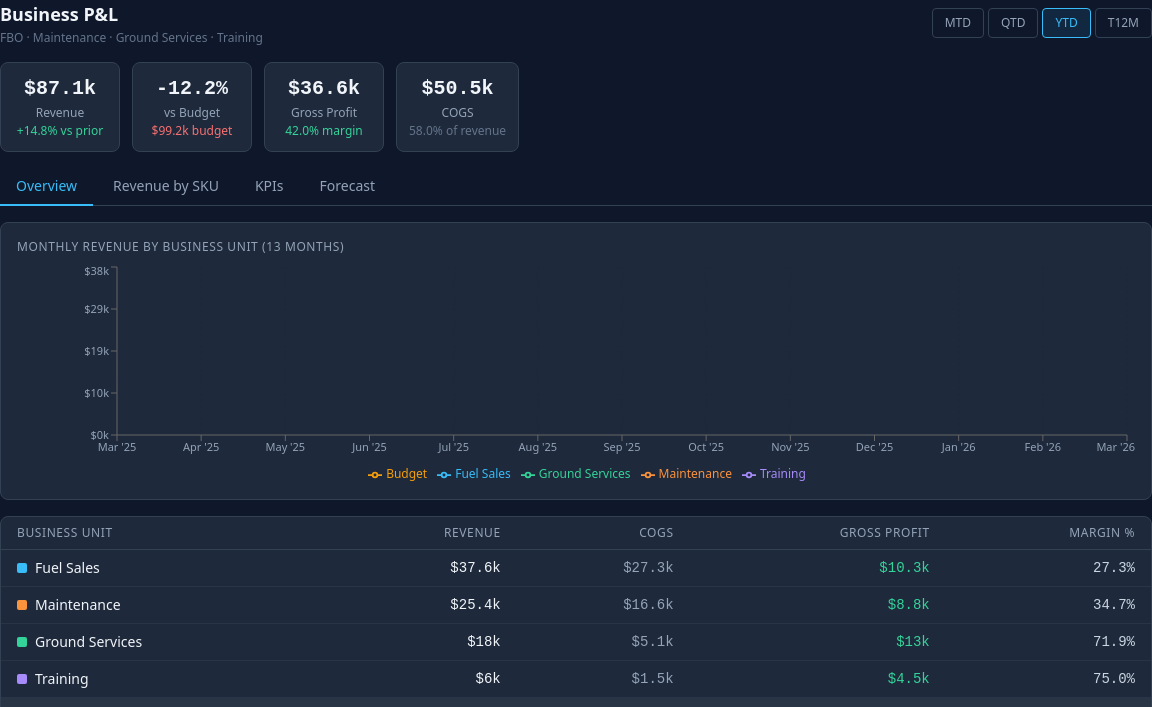
BusinessPnL page › switches to KPIs tab
Click the button "KPIs": (269, 187) [239,168,300,206]
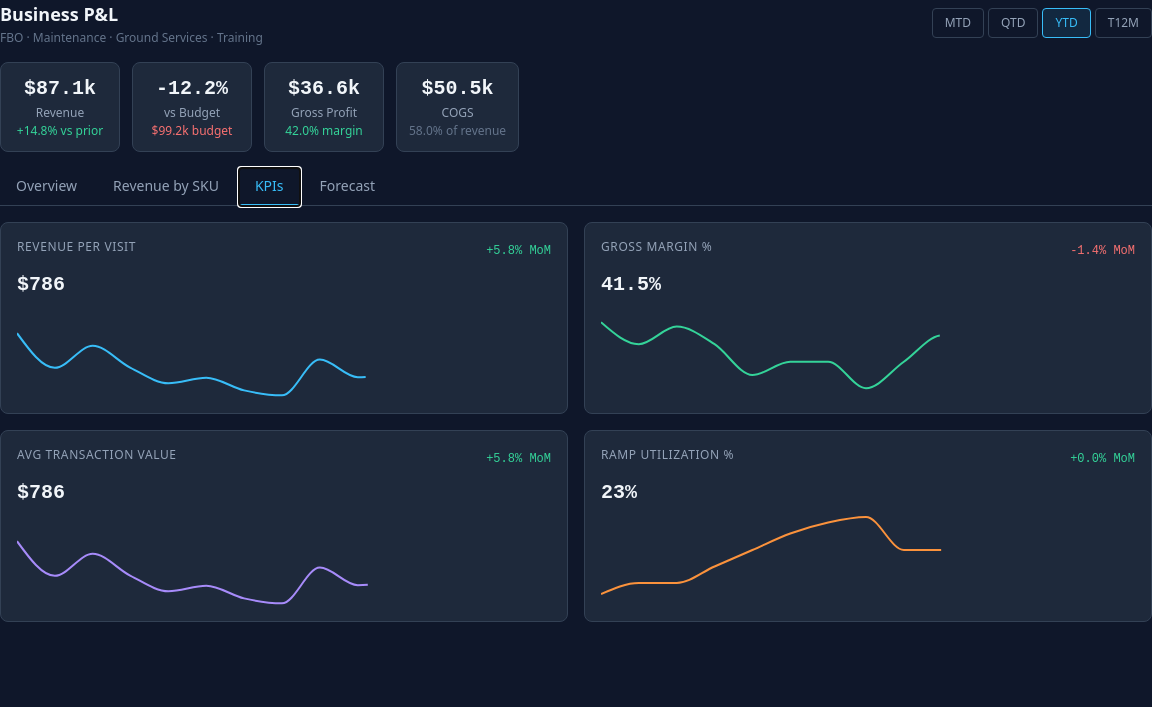
expect the heading "Revenue per Visit" is shown: met, box [17,239,136,255]
expect the heading "Gross Margin %" is shown: met, box [601,239,712,255]
